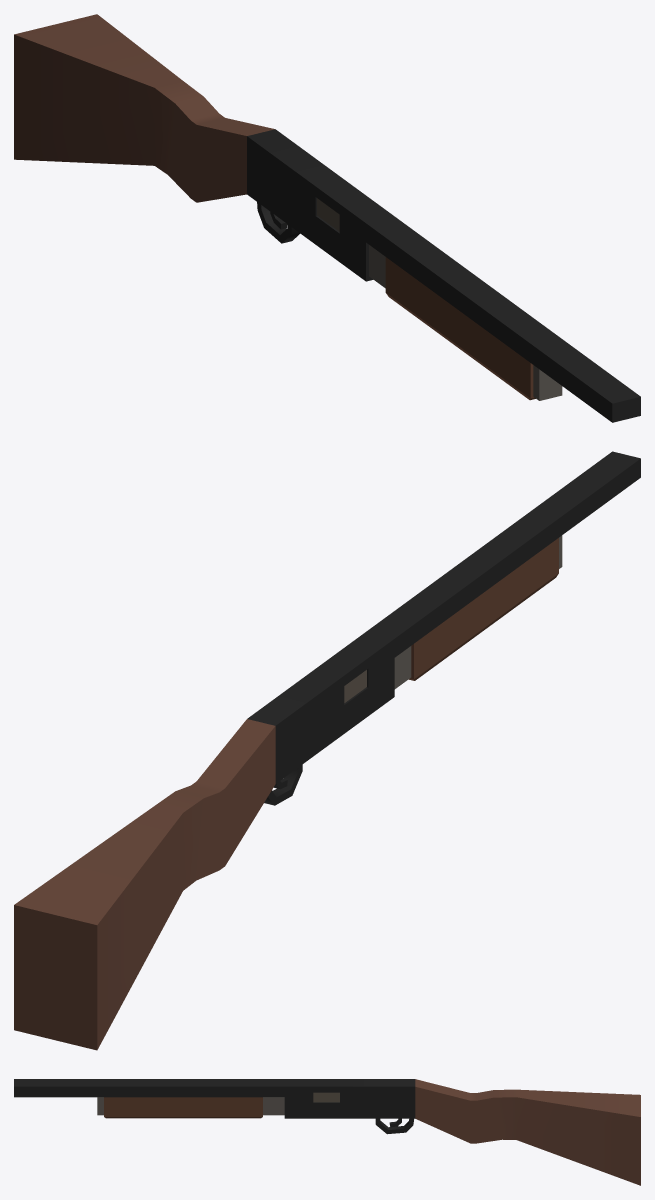
File: shotgun.fbx
3 renders of one model, top to bottom at view 1: azimuth 30°, elevation 25°; view 2: azimuth 150°, elevation 25°; view 3: azimuth 270°, elevation 25°, orthographic. The views are drawn at different scales.
Visible parts, largest first — view 1: Base, Pump, Base_Pumpbar; view 2: Base, Pump; view 3: Base, Pump, Base_Pumpbar, Shell_Out.
Part boxes in pixels (box(x1,y1,x2,y2)): Base: box(14, 14, 640, 422); Pump: box(385, 257, 535, 400); Base_Pumpbar: box(369, 245, 562, 400); Base: box(14, 451, 640, 1050); Pump: box(408, 538, 558, 680); Base: box(14, 1079, 640, 1185); Pump: box(104, 1097, 262, 1118); Base_Pumpbar: box(97, 1097, 284, 1115); Shell_Out: box(313, 1092, 339, 1102).
Bounding box in the file's own units: 31.67 × 60.85 × 376.
